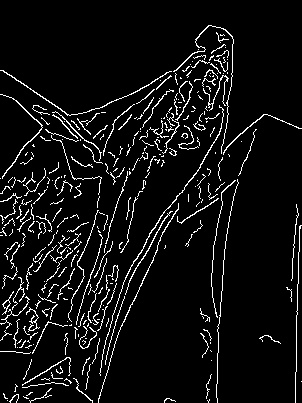cucumber: (67, 28, 238, 367)
